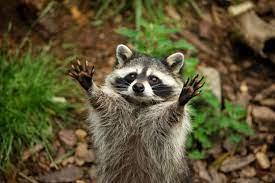raccoon: (57, 35, 217, 183)
